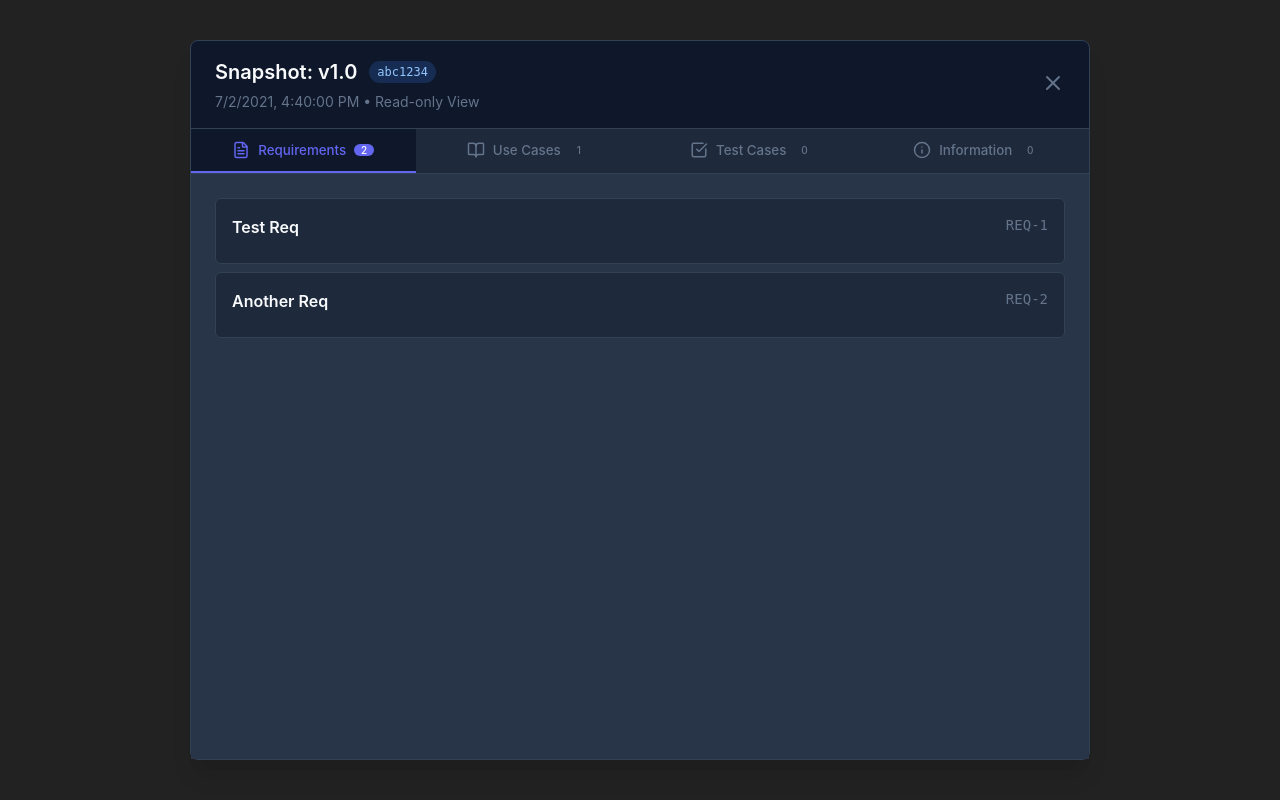
Test case: SnapshotViewer › should switch tabs
expect the text "Test Req" is shown: met, box [232,215,299,239]
Note: Switch to Use Cases
Click the button "Use Cases 1" at (528, 151), box [416,129,640,173]
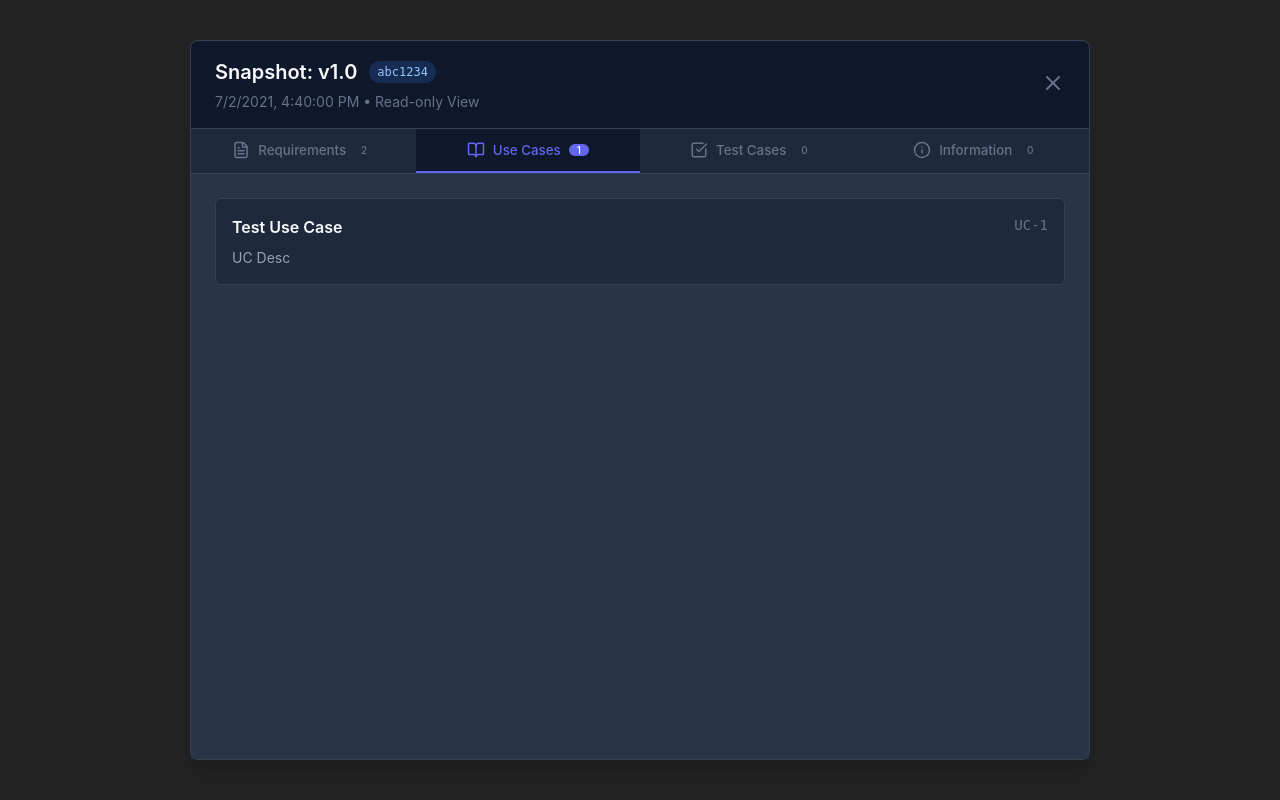
expect the text "Test Use Case" is shown: met, box [232,215,342,239]
expect the text "Test Req" is gone: met
